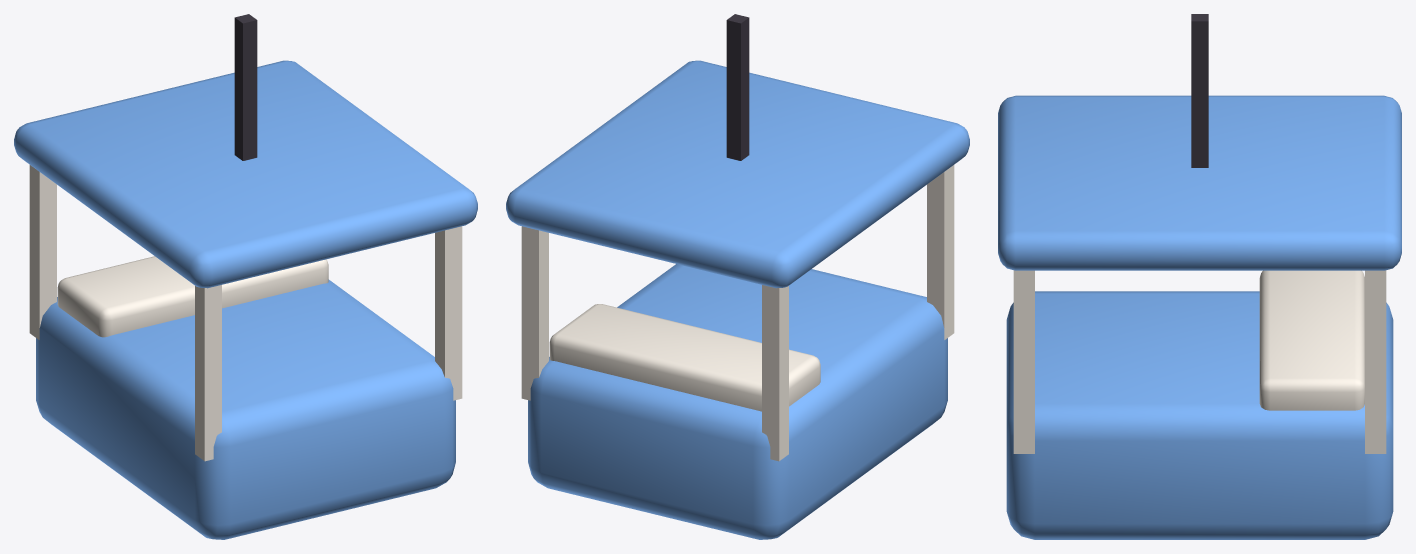
File: ferris_gondola_b.glb
The picture shows the model from 3 angles, left to right: view 1: azimuth 30°, elevation 25°; view 2: azimuth 150°, elevation 25°; view 3: azimuth 270°, elevation 25°; orthographic projection. The views are drawn at different scales.
Visible parts, largest first — view 1: ferris_gondola_b; view 2: ferris_gondola_b; view 3: ferris_gondola_b.
Boxes of the visible parts, left/top/right/bottom form: ferris_gondola_b: left=14, top=14, right=477, bottom=539; ferris_gondola_b: left=506, top=14, right=969, bottom=539; ferris_gondola_b: left=998, top=14, right=1401, bottom=539.
Size of the model in its own units: 1 by 1.46 by 1.15.
